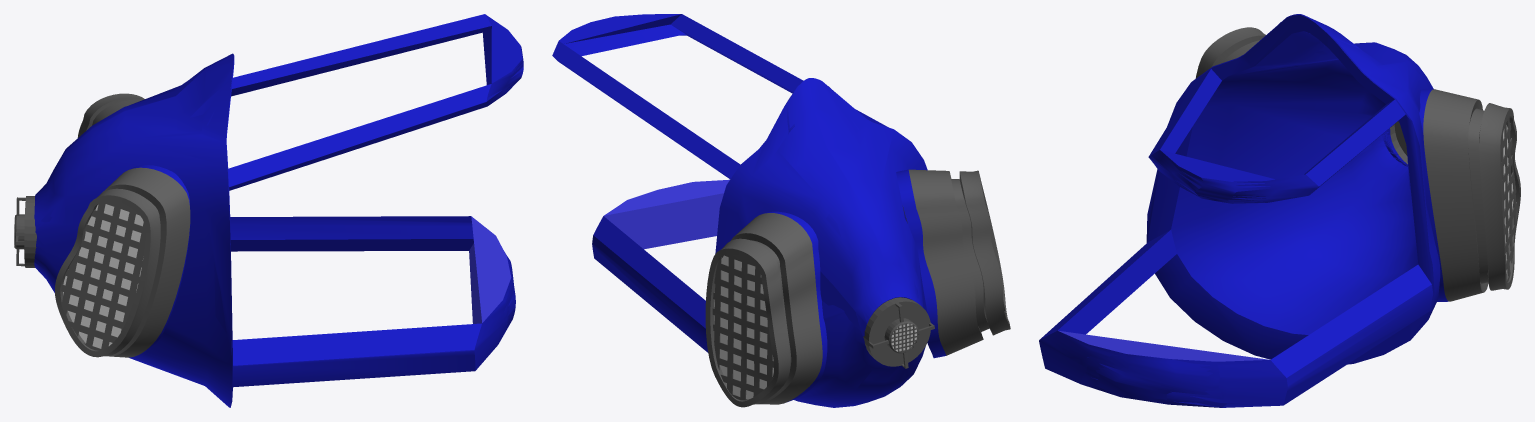
The model's file is MASCHERINA.fbx.
The picture shows the model from 3 angles, left to right: view 1: azimuth 30°, elevation 25°; view 2: azimuth 150°, elevation 25°; view 3: azimuth 270°, elevation 25°; orthographic projection. The views are drawn at different scales.
Visible parts, largest first — view 1: BézierCurve.017; view 2: BézierCurve.017; view 3: BézierCurve.017.
Part boxes in pixels (box(x1,y1,x2,y2)): BézierCurve.017: box(14, 14, 523, 407); BézierCurve.017: box(552, 14, 1010, 407); BézierCurve.017: box(1039, 14, 1520, 407).
Size of the model in its own units: 11.29 by 7.85 by 9.59.
